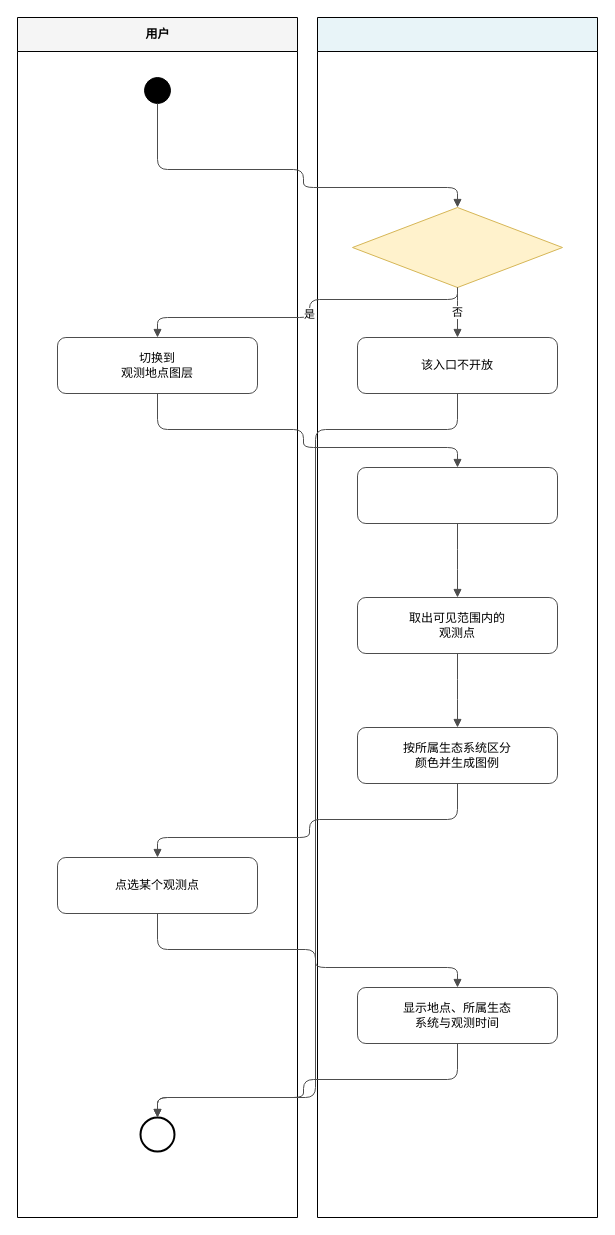
Some shapes in this 615 by 1235 pixel diagram are drawn without their labels. Here are the shapes that lost their labels. From the top down, the box of each, then its label:
(352, 206, 562, 288): 该角色有权 查看观测数据?
(356, 466, 558, 524): 撤下上一图层
(316, 16, 598, 1218): 系统
